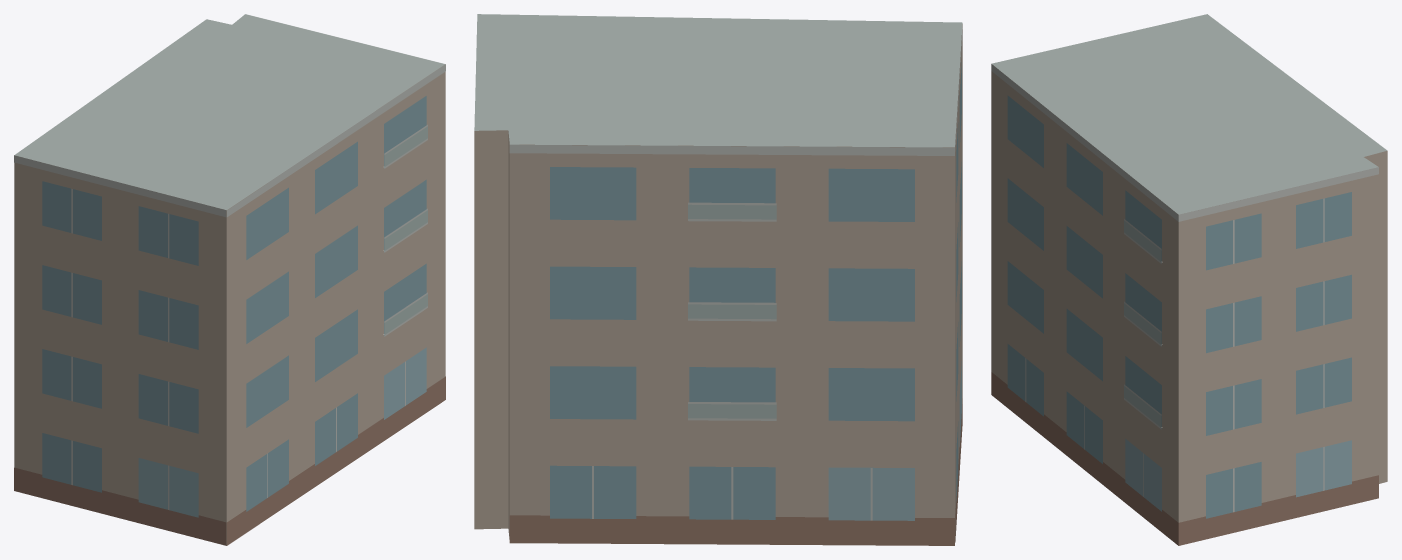
Rendered from survey-upis-32778285.glb.
3 views of the same model, side by side, from view 1: azimuth 30°, elevation 25°; view 2: azimuth 150°, elevation 25°; view 3: azimuth 270°, elevation 25° (orthographic). The views are drawn at different scales.
Parts seen in each view (by area): view 1: survey-upis-32778285.tmp; view 2: survey-upis-32778285.tmp; view 3: survey-upis-32778285.tmp.
Part boxes in pixels (x1,y1,x2,y2): survey-upis-32778285.tmp: (14, 14, 445, 545); survey-upis-32778285.tmp: (474, 14, 962, 545); survey-upis-32778285.tmp: (991, 14, 1387, 545).
Size of the model in its own units: 14.65 by 11.26 by 12.22.
